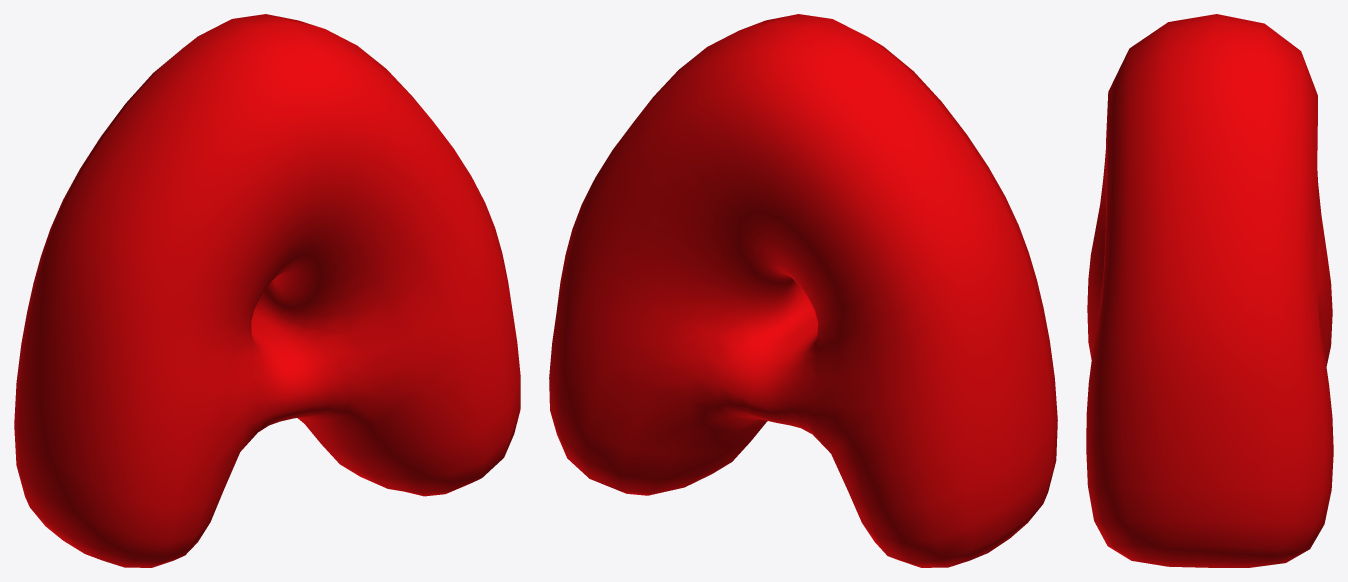
3 renders of one model, left to right at view 1: azimuth 30°, elevation 25°; view 2: azimuth 150°, elevation 25°; view 3: azimuth 270°, elevation 25°, orthographic. The views are drawn at different scales.
Parts seen in each view (by area): view 1: A_0; view 2: A_0; view 3: A_0.
Part boxes in pixels (x1,y1,x2,y2): A_0: [14, 14, 520, 567]; A_0: [549, 14, 1057, 567]; A_0: [1086, 14, 1333, 567].
Bounding box in the file's own units: 1.01 × 1.01 × 0.4821.
